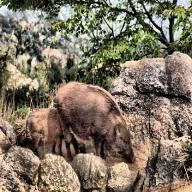boar: (46, 61, 149, 176)
